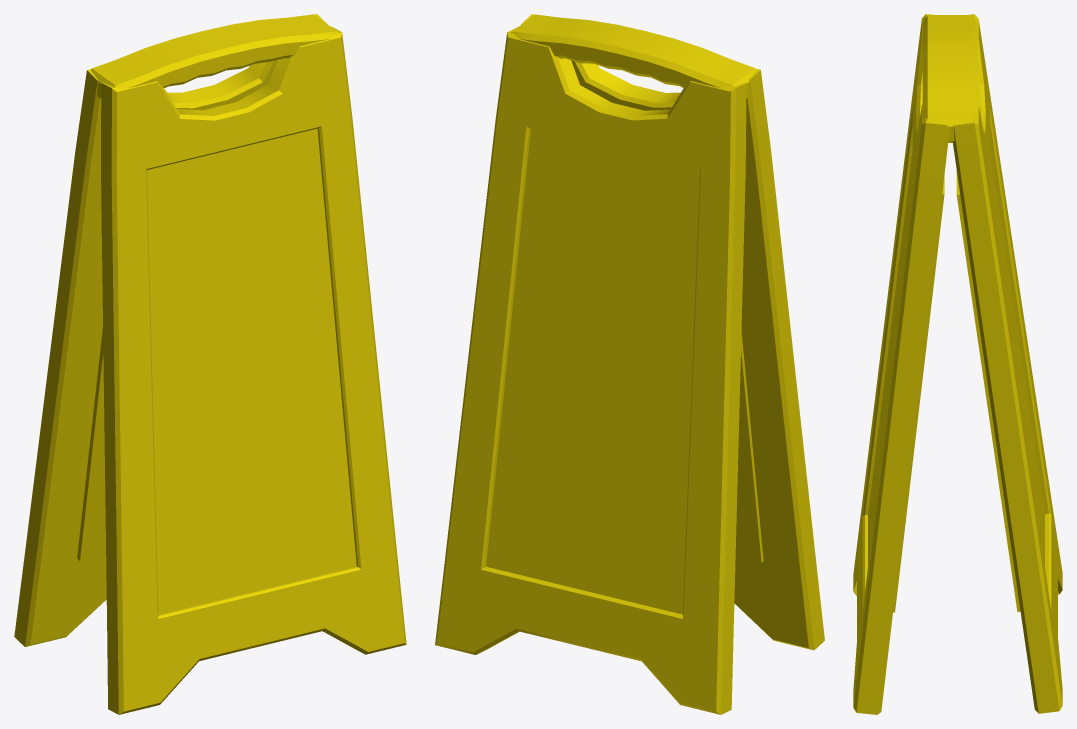
Rendered from Wet Floor.fbx.
The picture shows the model from 3 angles, left to right: view 1: azimuth 30°, elevation 25°; view 2: azimuth 150°, elevation 25°; view 3: azimuth 270°, elevation 25°; orthographic projection. The views are drawn at different scales.
Visible parts, largest first — view 1: Wet_Floor_Sign; view 2: Wet_Floor_Sign; view 3: Wet_Floor_Sign.
Boxes of the visible parts, <box> form: Wet_Floor_Sign: <box>14,14,406,714</box>; Wet_Floor_Sign: <box>435,14,824,714</box>; Wet_Floor_Sign: <box>853,14,1062,714</box>.
Bounding box in the file's own units: 2.99 × 6.03 × 1.94.
